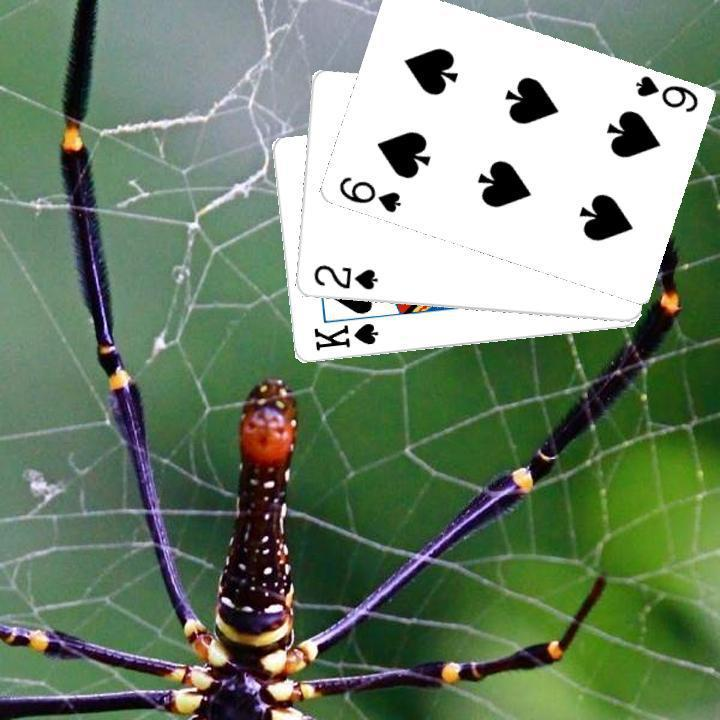2: (309, 261, 380, 293)
6: (630, 71, 700, 115), (334, 172, 403, 215)
K: (308, 319, 380, 354)
